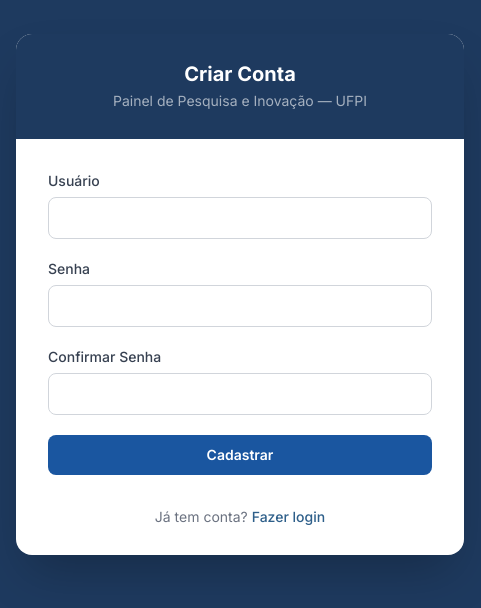
Cadastro › exibe erro quando senhas não coincidem
The image size is (481, 608).
Type "usuario" into the field labelled "Usuário" at (240,218), box [48, 196, 432, 238]
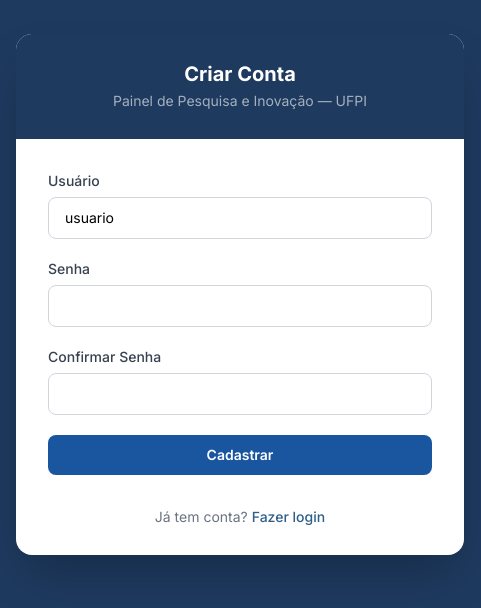
Type "senha123" into the password field labelled "Senha" at (240,306), box [48, 284, 432, 326]
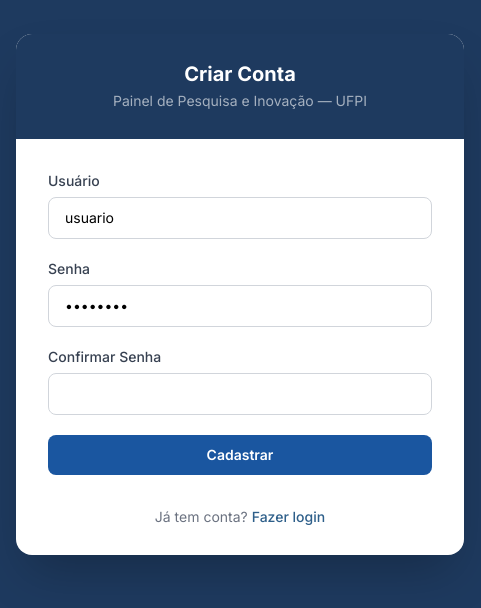
Type "diferente" into the password field labelled "Confirmar Senha" at (240,394), box [48, 372, 432, 414]
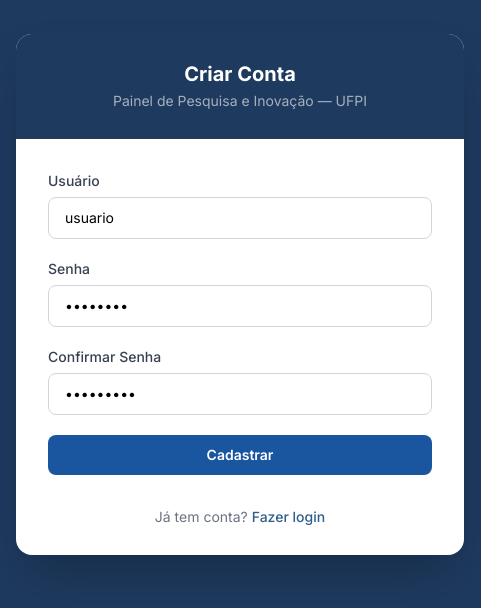
Click the button "Cadastrar" at (240,454), box [48, 434, 432, 474]
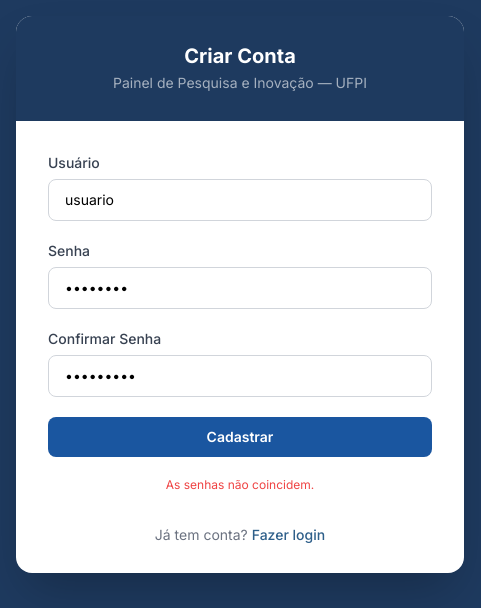
Now the text "As senhas não coincidem." is shown, box [166, 476, 314, 492]
